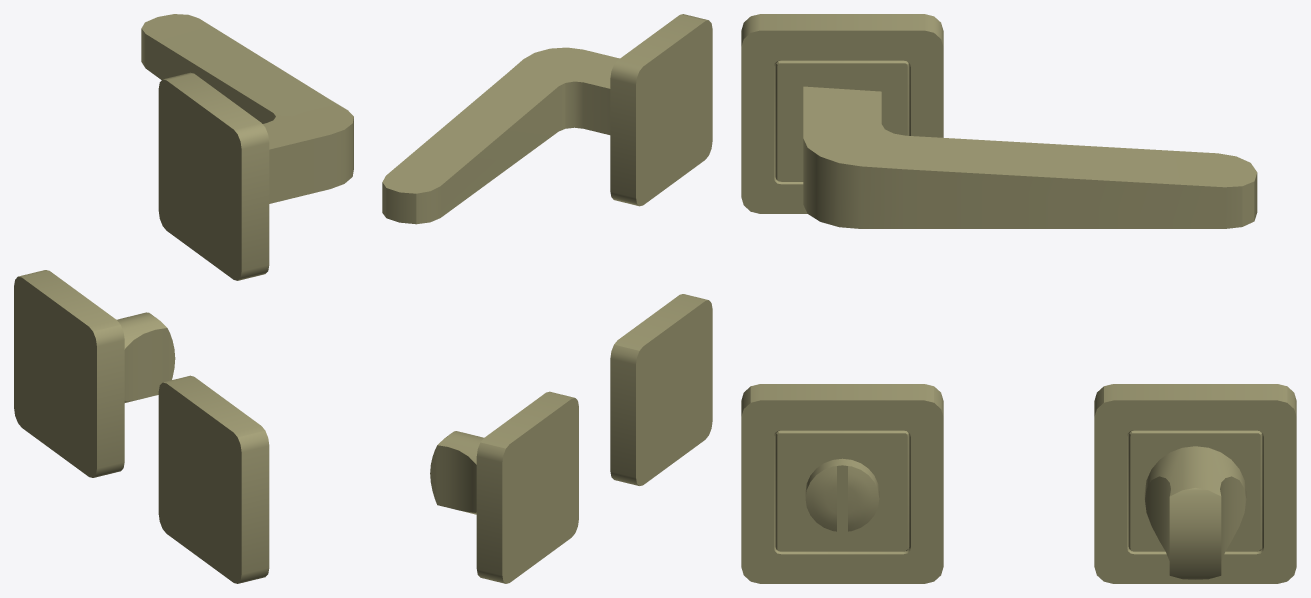
File: Ruchka.fbx
The picture shows the model from 3 angles, left to right: view 1: azimuth 30°, elevation 25°; view 2: azimuth 150°, elevation 25°; view 3: azimuth 270°, elevation 25°; orthographic projection. The views are drawn at different scales.
Visible parts, largest first — view 1: 6; view 2: 6; view 3: 6.
Boxes of the visible parts, x1,y1,x2,y2 form: 6: (14, 14, 353, 583); 6: (382, 14, 712, 583); 6: (741, 14, 1296, 583).
Bounding box in the file's own units: 0.0313 × 0.0872 × 0.0793.
